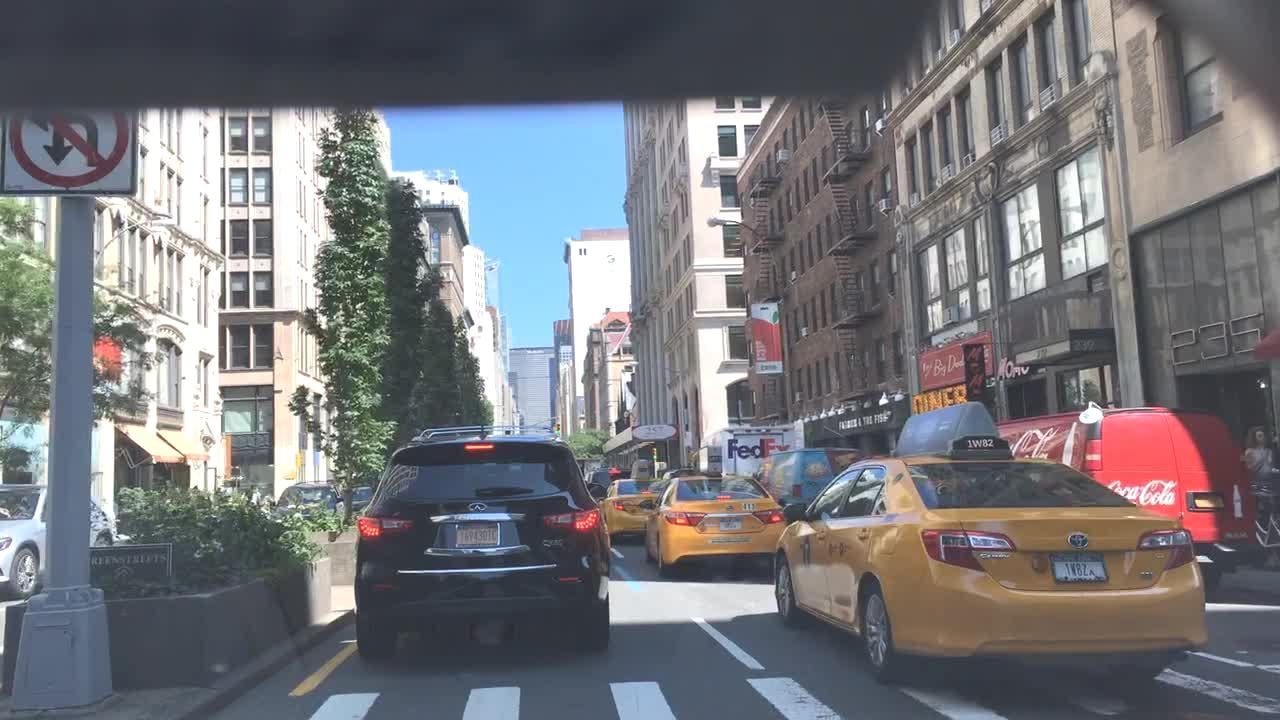Infiniti: (467, 493, 492, 513)
Toyota: (1063, 527, 1095, 554)
